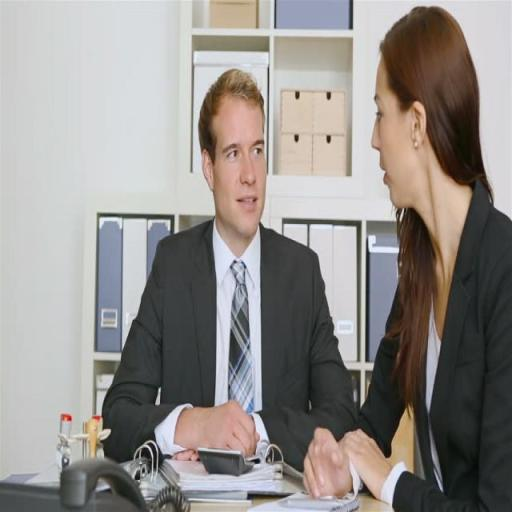Persona: (301, 7, 512, 512), (101, 66, 355, 470)
